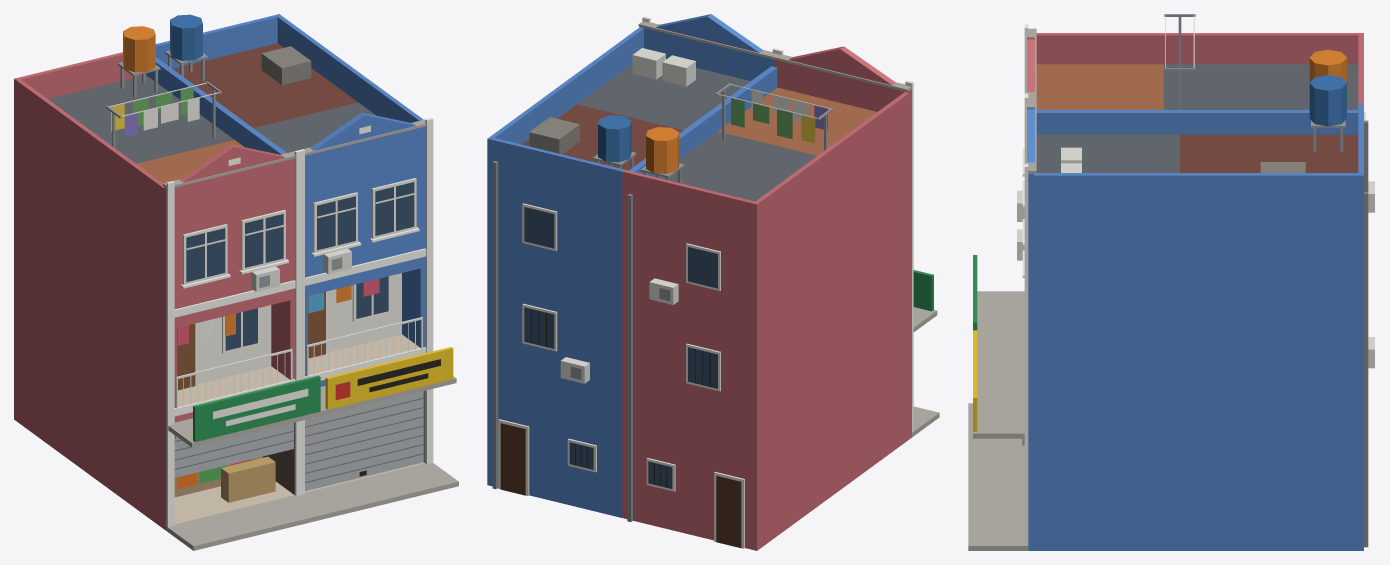
File: ruko_03.glb
The picture shows the model from 3 angles, left to right: view 1: azimuth 30°, elevation 25°; view 2: azimuth 150°, elevation 25°; view 3: azimuth 270°, elevation 25°; orthographic projection. The views are drawn at different scales.
Parts seen in each view (by area): view 1: ruko_03; view 2: ruko_03; view 3: ruko_03.
Part boxes in pixels (x1=…): ruko_03: x1=14, y1=14, x2=458, y2=550; ruko_03: x1=487, y1=14, x2=939, y2=550; ruko_03: x1=968, y1=14, x2=1374, y2=550.
Size of the model in its own units: 9 by 12.05 by 10.86.
